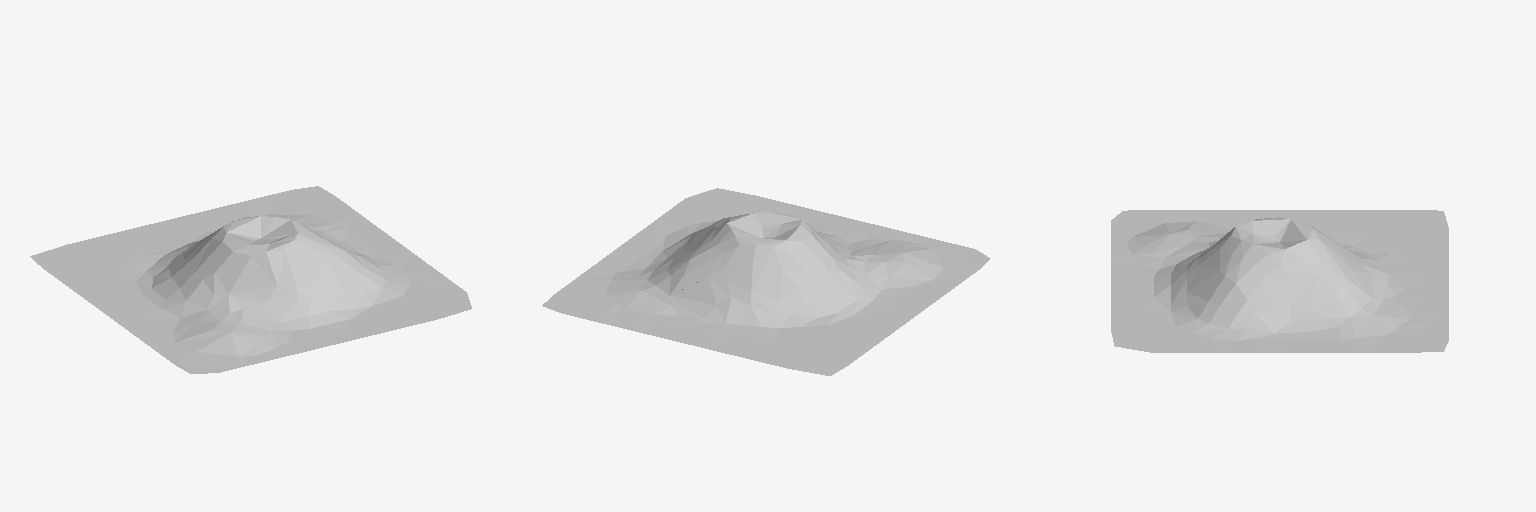
The model's file is SandHill4_BM.obj.
3 renders of one model, left to right at view 1: azimuth 30°, elevation 25°; view 2: azimuth 150°, elevation 25°; view 3: azimuth 270°, elevation 25°, orthographic.
Visible parts, largest first — view 1: Col_Mesh.010; view 2: Col_Mesh.010; view 3: Col_Mesh.010.
Boxes of the visible parts, box(x1,y1,x2,y2) form: Col_Mesh.010: box(30, 186, 471, 373); Col_Mesh.010: box(542, 188, 989, 375); Col_Mesh.010: box(1111, 210, 1448, 352).
Size of the model in its own units: 10 by 1.68 by 10.